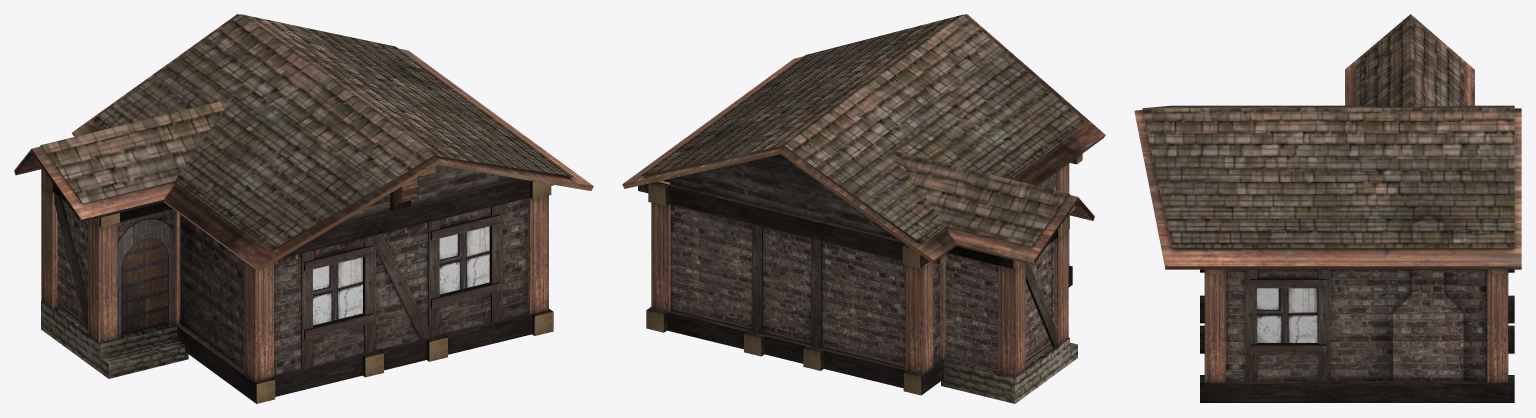
3 views of the same model, side by side, from view 1: azimuth 30°, elevation 25°; view 2: azimuth 150°, elevation 25°; view 3: azimuth 270°, elevation 25° (orthographic). The views are drawn at different scales.
Parts seen in each view (by area): view 1: blacksmith_main.001; view 2: blacksmith_main.001; view 3: blacksmith_main.001.
Boxes of the visible parts, bbox=[...] form: blacksmith_main.001: bbox=[14, 14, 593, 403]; blacksmith_main.001: bbox=[622, 14, 1105, 403]; blacksmith_main.001: bbox=[1134, 14, 1521, 402].
Size of the model in its own units: 472 by 257 by 379.
